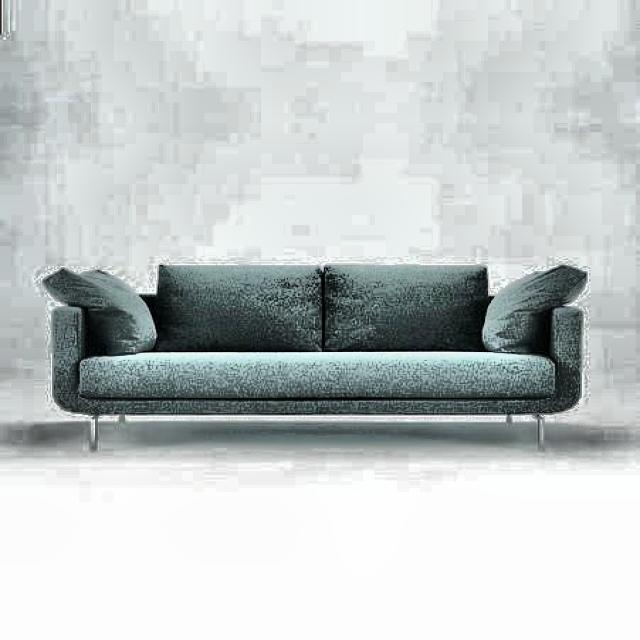sofa: (41, 264, 585, 421)
